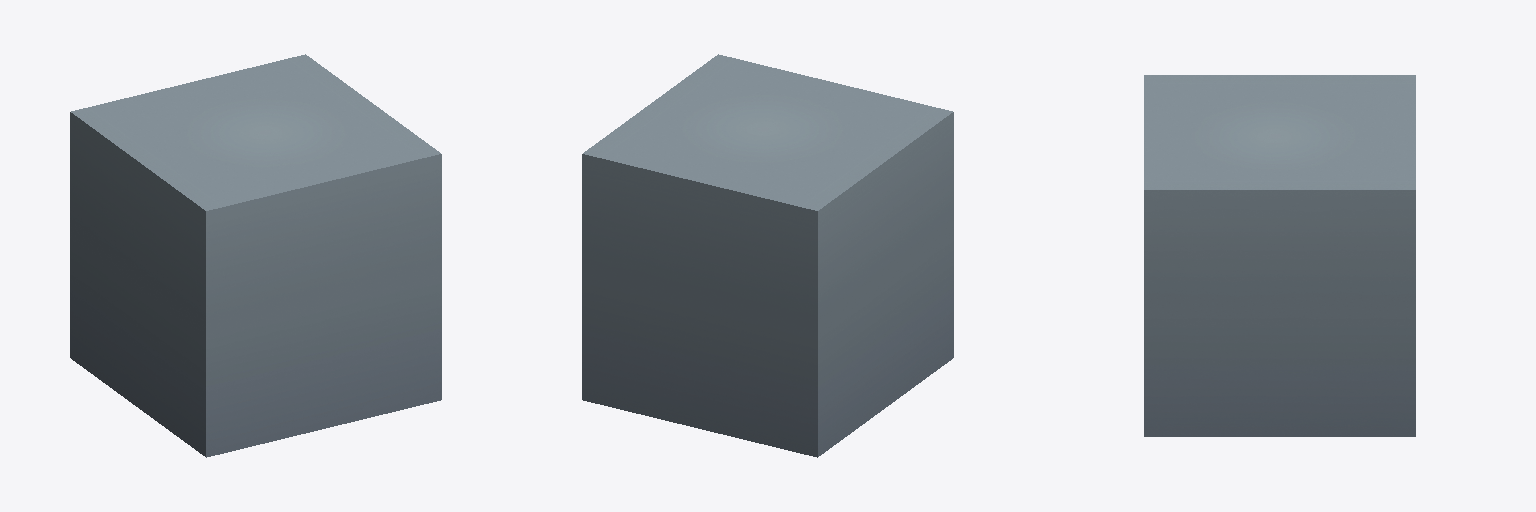
3 views of the same model, side by side, from view 1: azimuth 30°, elevation 25°; view 2: azimuth 150°, elevation 25°; view 3: azimuth 270°, elevation 25° (orthographic).
Parts seen in each view (by area): view 1: Cube; view 2: Cube; view 3: Cube.
Part boxes in pixels (left/top/right/bottom): Cube: left=70, top=54, right=441, bottom=457; Cube: left=582, top=54, right=953, bottom=457; Cube: left=1144, top=75, right=1415, bottom=436.
Size of the model in its own units: 20 by 20 by 20.
Materials: 1 (1 with a texture image).